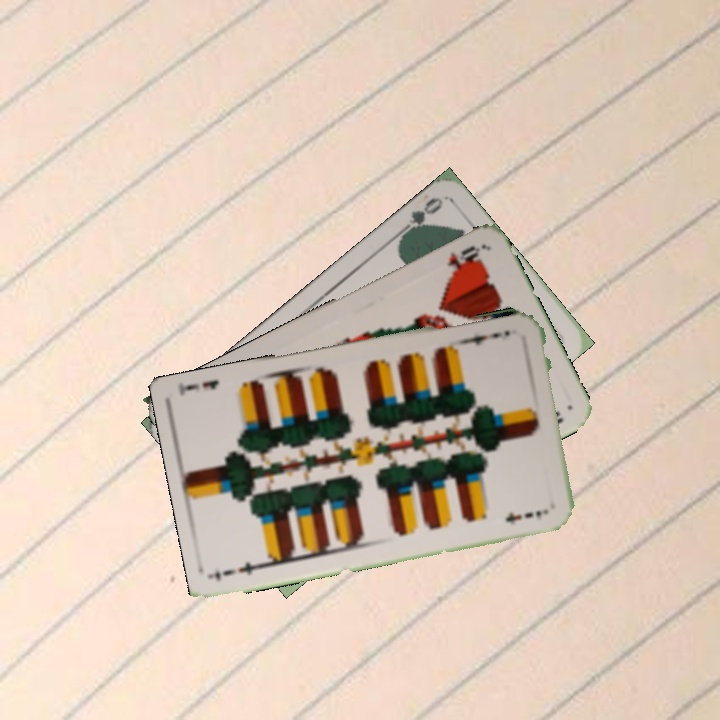E7: (461, 326, 513, 349), (219, 557, 270, 578)
GO: (393, 193, 445, 242)
HO: (442, 241, 484, 276)
